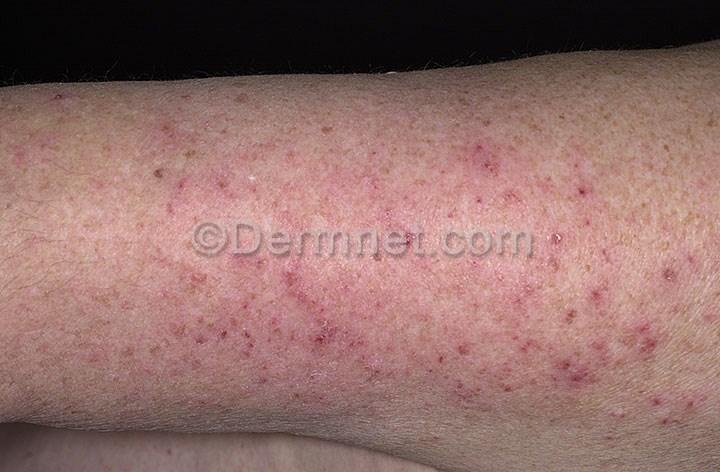Eczema: (331, 263, 549, 440), (549, 223, 717, 443), (129, 262, 328, 435), (352, 84, 601, 220), (136, 86, 358, 217), (5, 121, 129, 236)
